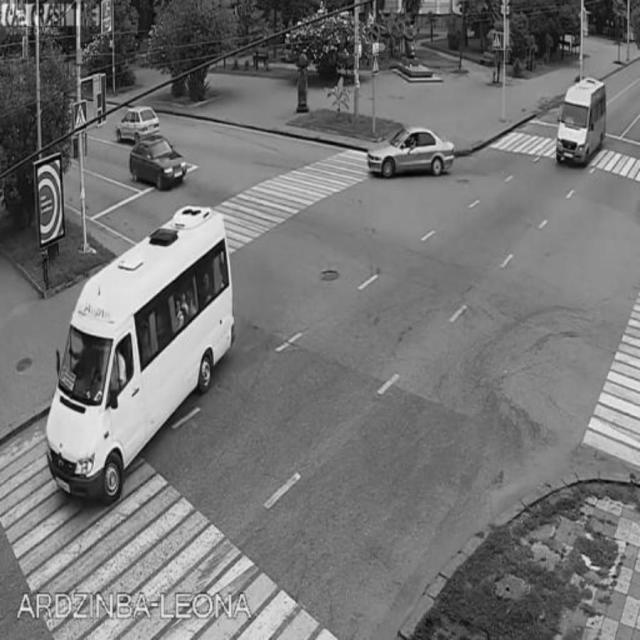vehicle: (52, 213, 229, 477), (370, 127, 453, 177), (560, 82, 604, 163), (127, 138, 182, 189), (117, 100, 161, 140)
